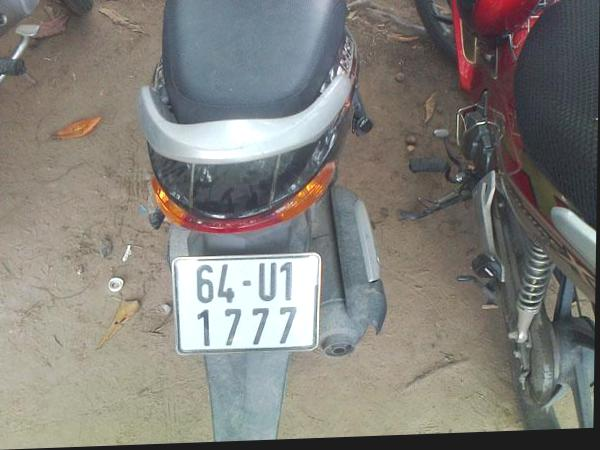License_Plate: (174, 252, 321, 356)
